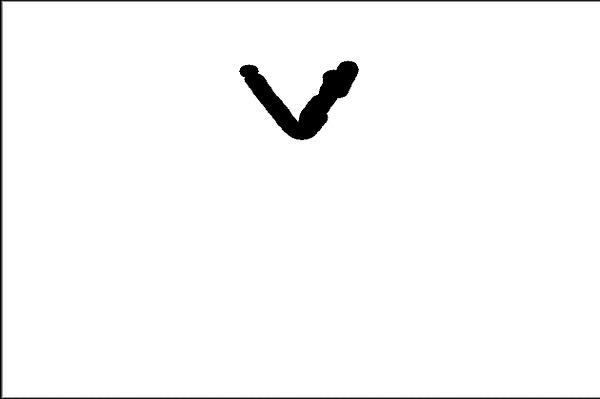V: (239, 43, 364, 151)
